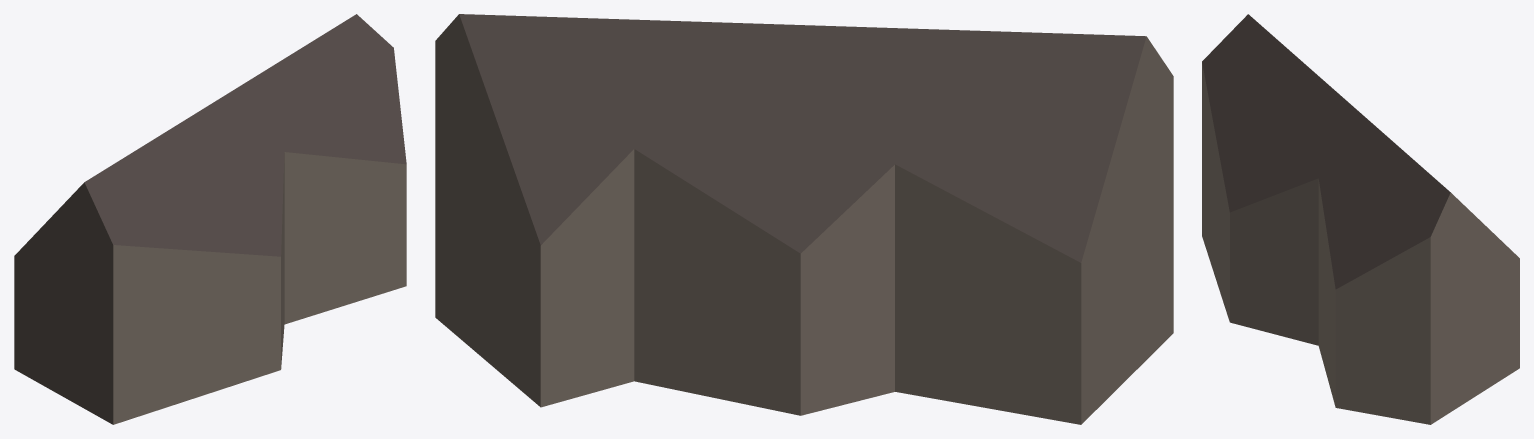
3 views of the same model, side by side, from view 1: azimuth 30°, elevation 25°; view 2: azimuth 150°, elevation 25°; view 3: azimuth 270°, elevation 25° (orthographic). The views are drawn at different scales.
Visible parts, largest first — view 1: HP-w428186469; view 2: HP-w428186469; view 3: HP-w428186469.
Part boxes in pixels (x1=…): HP-w428186469: x1=14, y1=14, x2=406, y2=424; HP-w428186469: x1=435, y1=14, x2=1173, y2=424; HP-w428186469: x1=1202, y1=14, x2=1519, y2=424.
Size of the model in its own units: 11.52 by 6 by 7.86.
